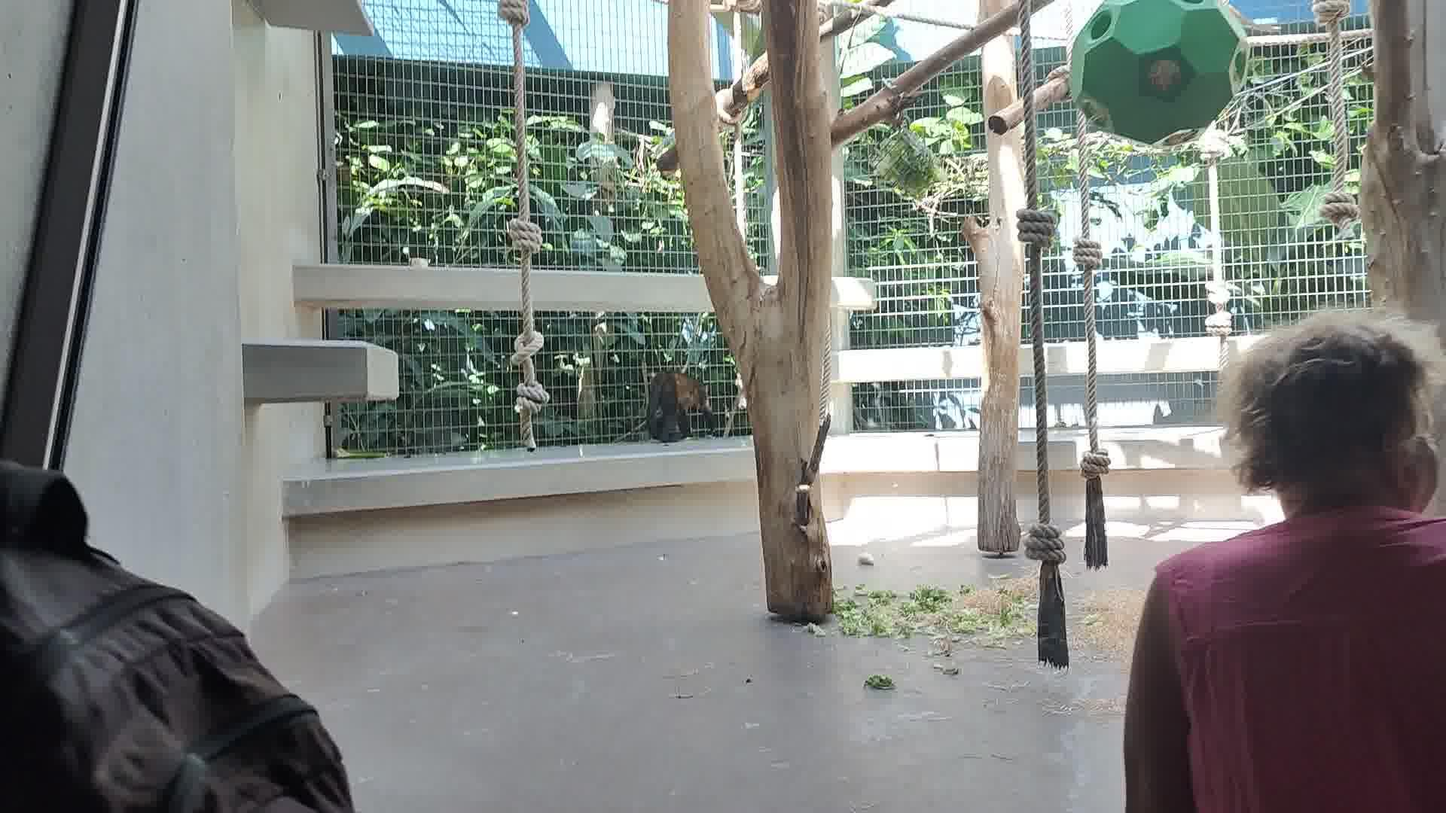boar: (648, 371, 715, 442)
